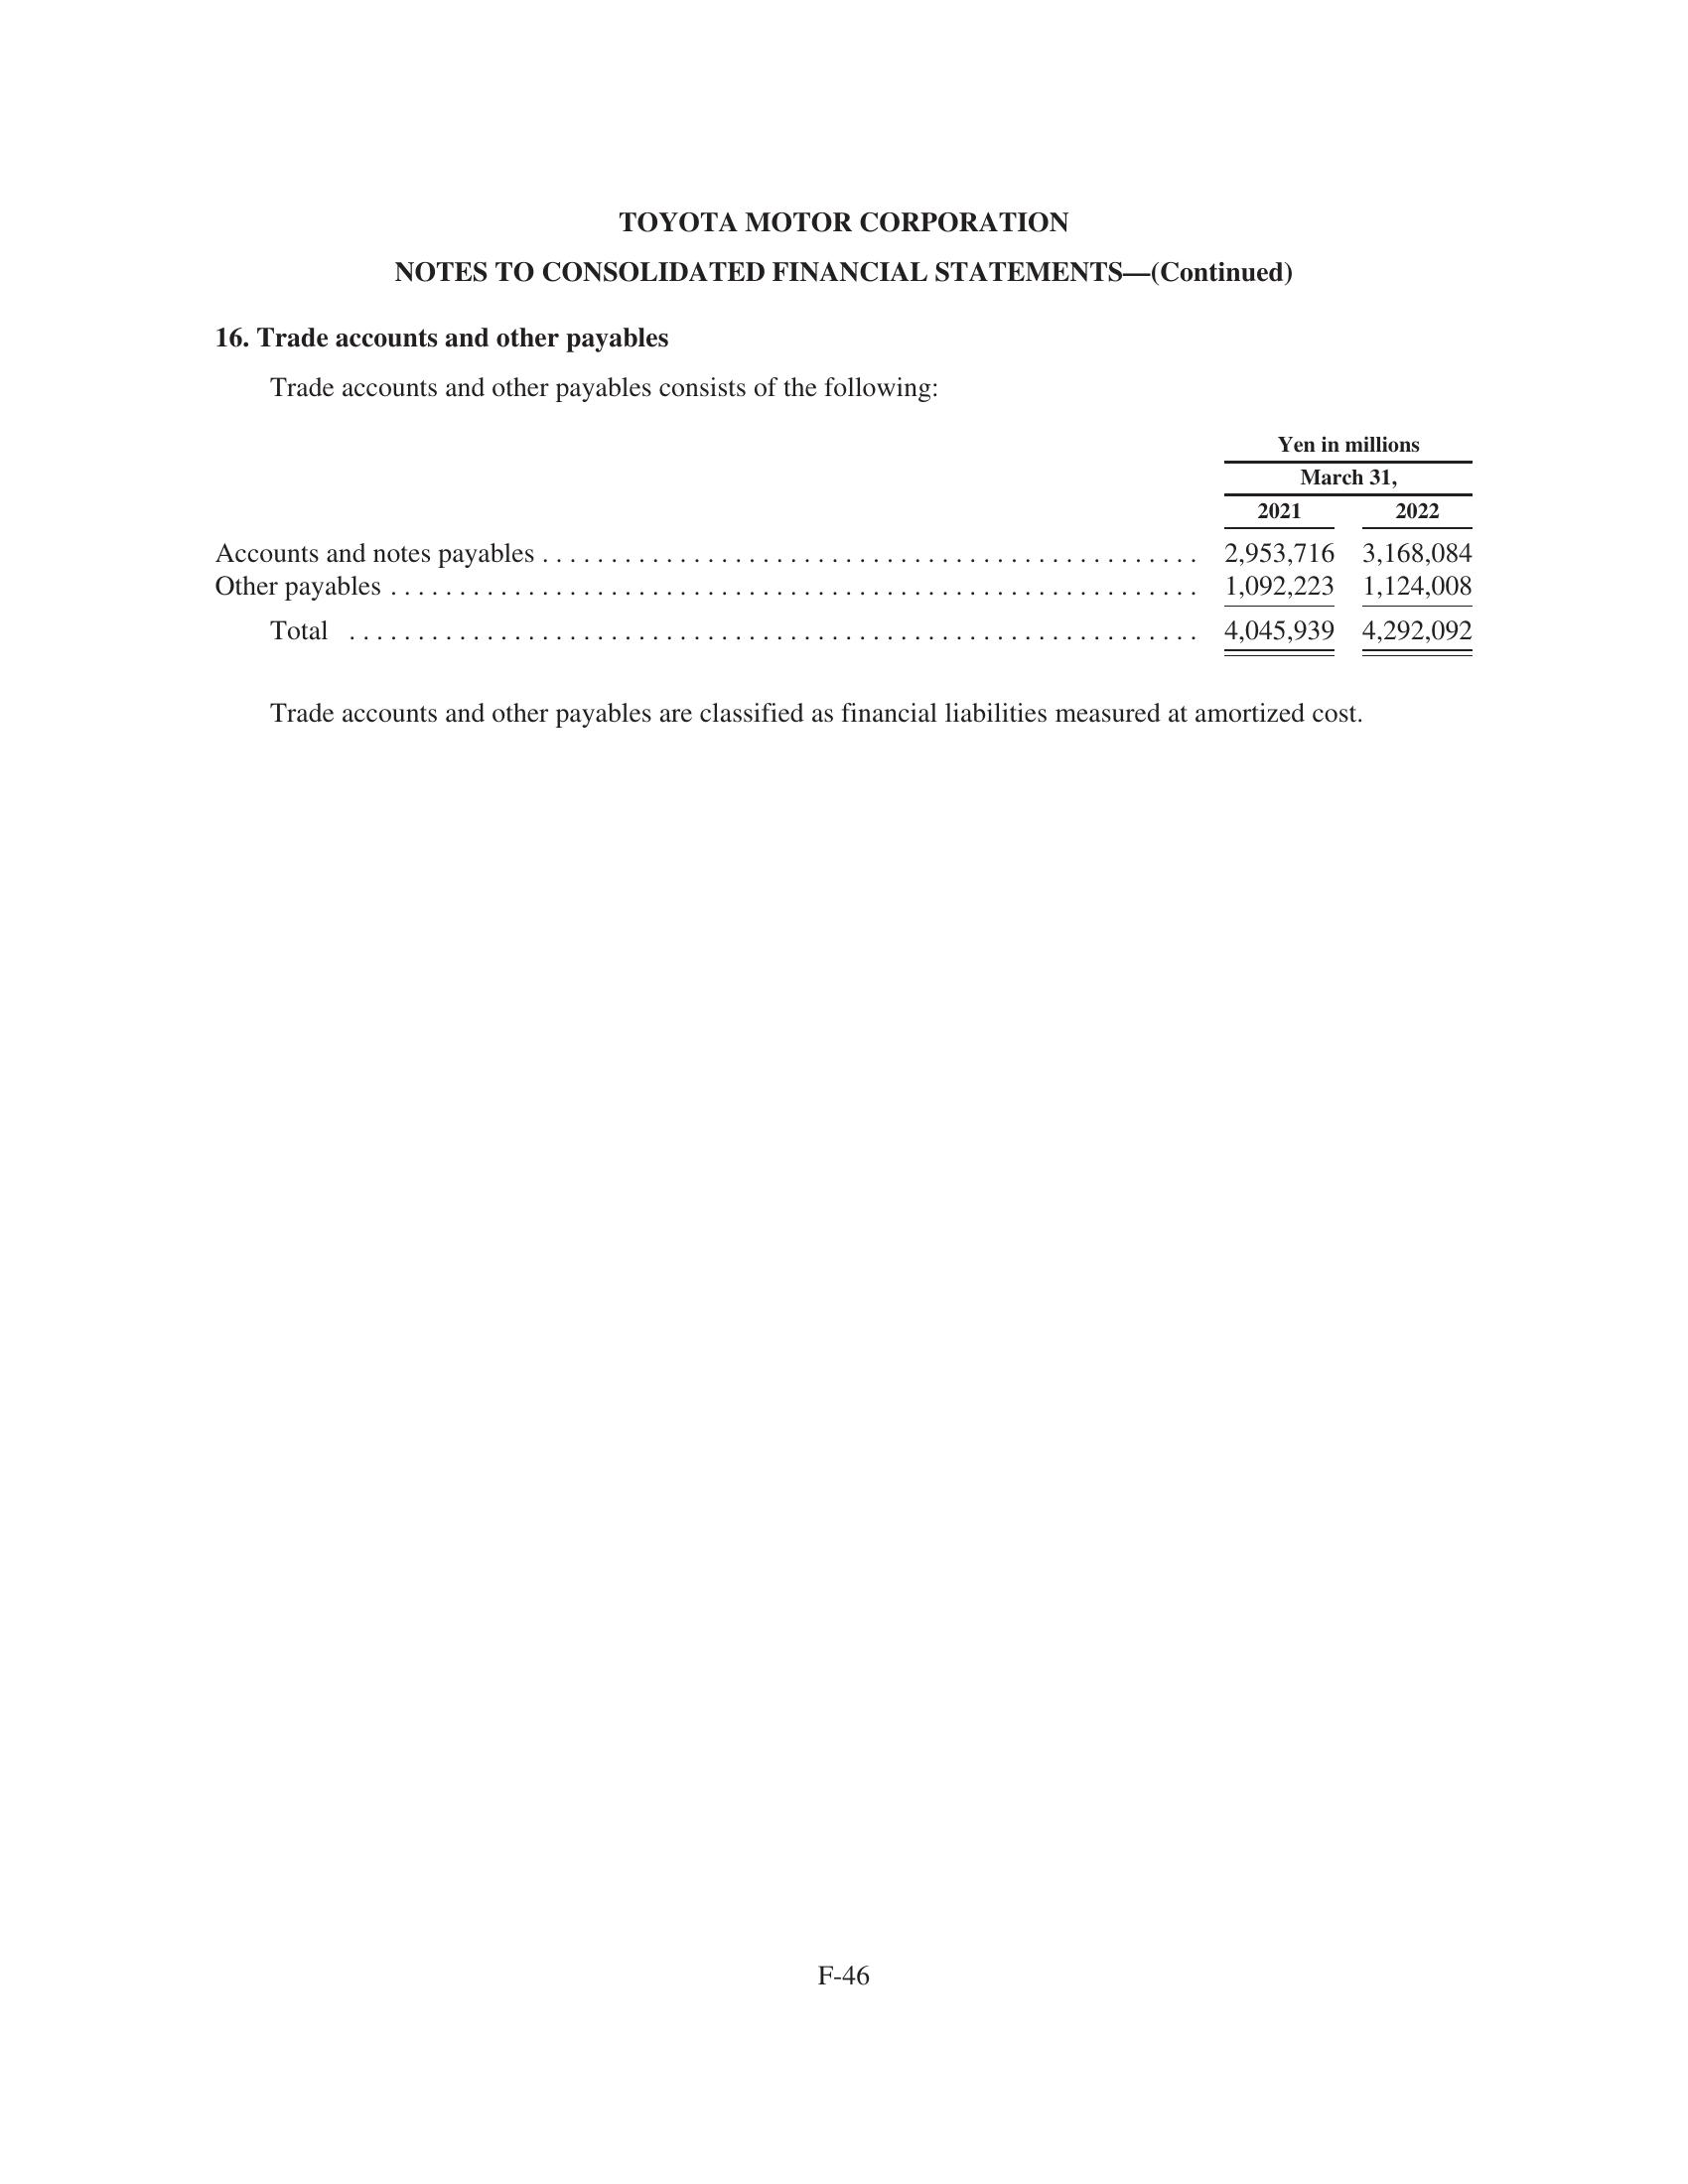Footer: (0, 1950, 1688, 2184)
Header: (0, 0, 1688, 179)
Table: (117, 429, 1521, 674)
